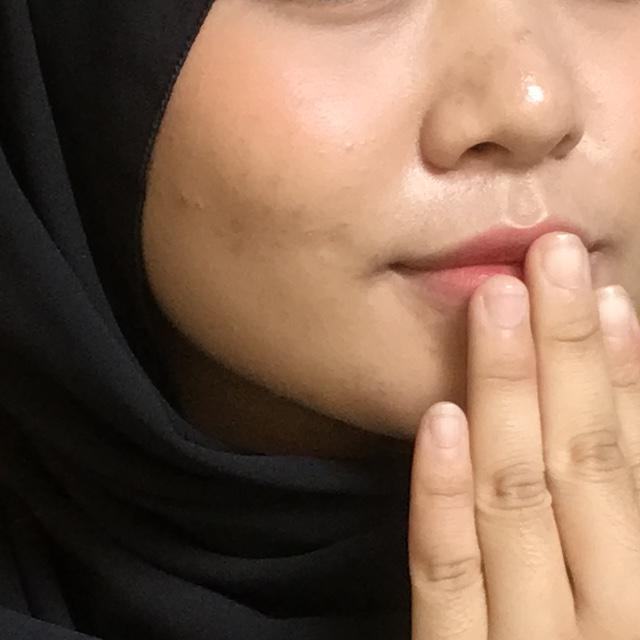ganteng: (315, 216, 640, 640)
